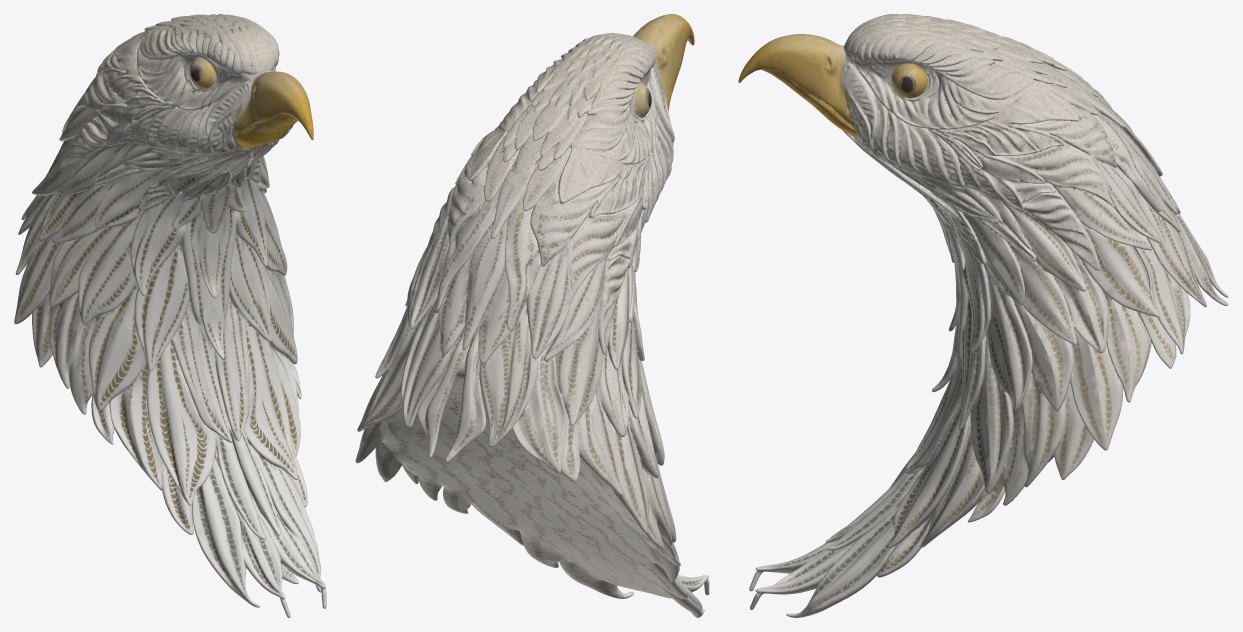
Rendered from dau-dai-bang.glb.
3 renders of one model, left to right at view 1: azimuth 30°, elevation 25°; view 2: azimuth 150°, elevation 25°; view 3: azimuth 270°, elevation 25°, orthographic. The views are drawn at different scales.
Size of the model in its own units: 0.9607 by 1.9 by 1.46.
1 material, 1 textured.
